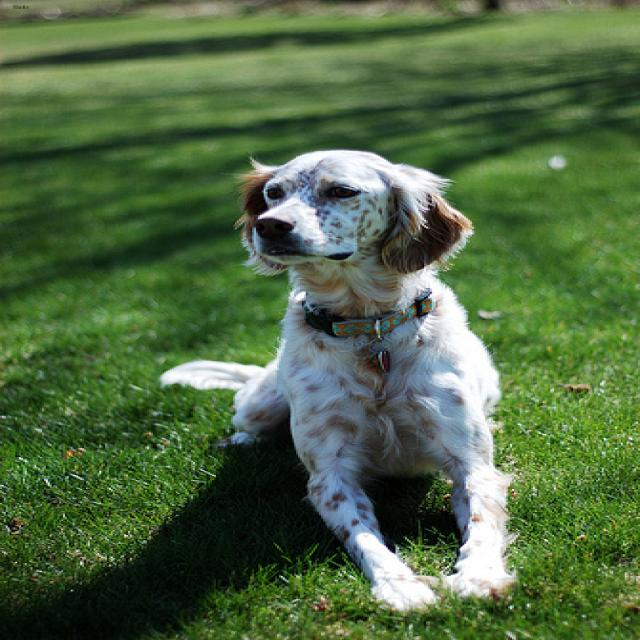dog-english_setter: (151, 140, 520, 617)
